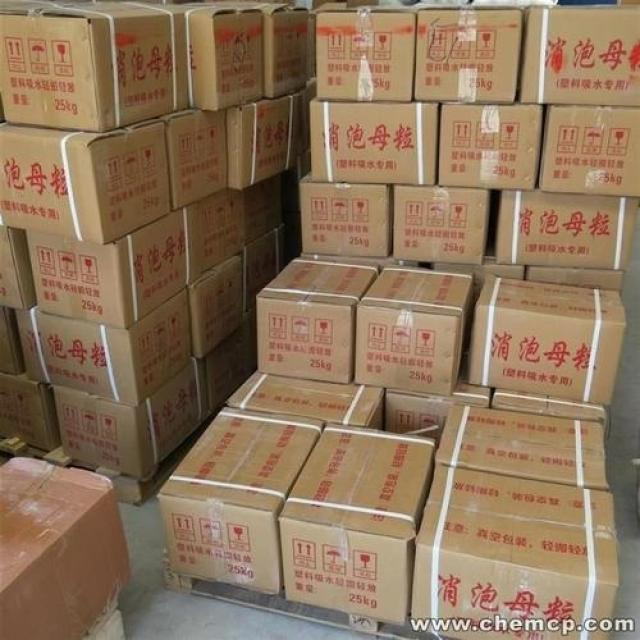box: (411, 464, 619, 639), (276, 420, 436, 626), (157, 404, 326, 596), (0, 1, 189, 134), (24, 203, 201, 330), (0, 117, 174, 245), (16, 287, 194, 407), (468, 273, 627, 406), (53, 355, 214, 481), (433, 401, 608, 492), (256, 258, 380, 385), (355, 266, 475, 394), (136, 3, 265, 112), (175, 1, 311, 97), (386, 337, 492, 452), (521, 6, 639, 106), (495, 189, 638, 270), (311, 96, 441, 185), (414, 7, 526, 103), (223, 369, 387, 432), (315, 2, 415, 103), (537, 104, 639, 198), (436, 101, 542, 190), (298, 170, 395, 257), (394, 184, 490, 264), (157, 107, 227, 213), (226, 91, 300, 190), (186, 255, 245, 359), (205, 310, 258, 413), (433, 248, 524, 307), (0, 369, 62, 451), (236, 224, 287, 322), (196, 188, 246, 277), (489, 387, 607, 423), (523, 265, 624, 299), (0, 226, 39, 312), (244, 176, 285, 249), (301, 248, 419, 273), (0, 306, 26, 376), (485, 188, 501, 248), (418, 259, 434, 270)
